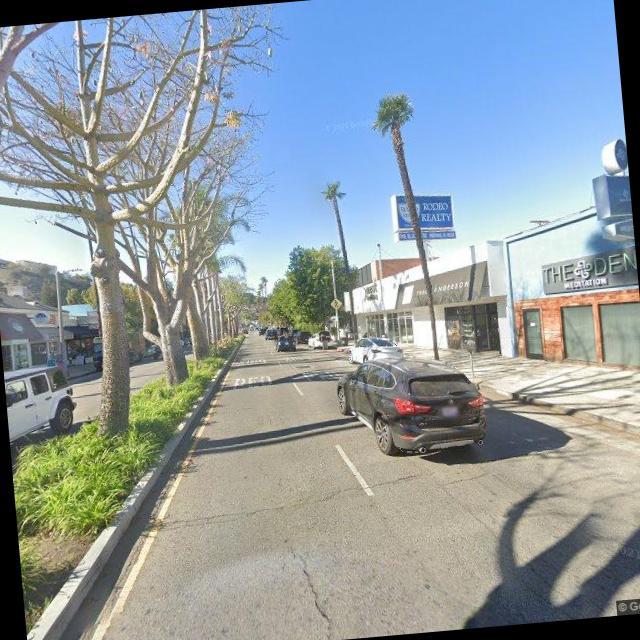crack: (156, 462, 434, 529), (285, 528, 334, 640)
